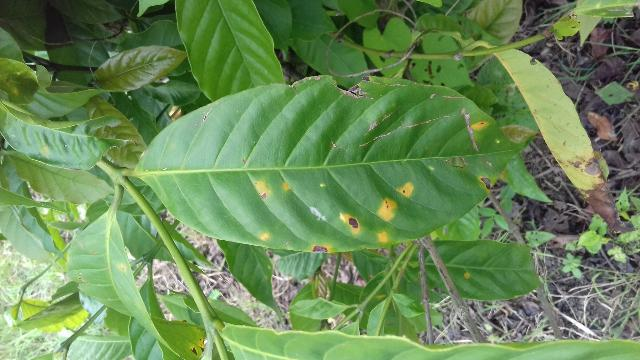rust_level_2: (121, 75, 532, 251)
